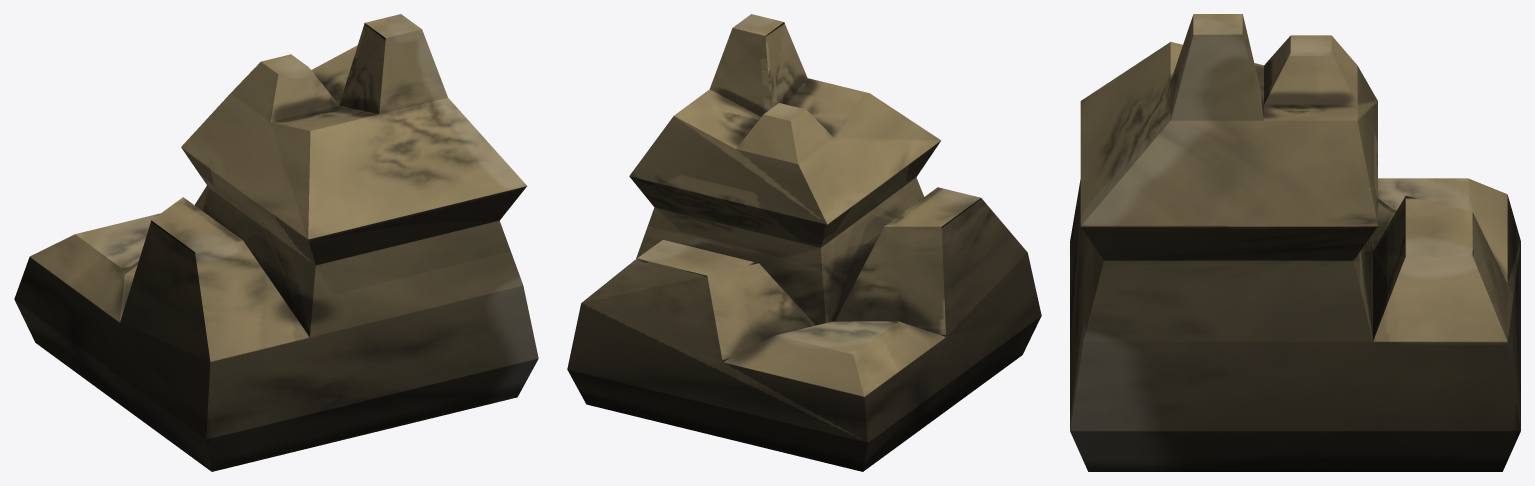
Rendered from Stone.glb.
3 renders of one model, left to right at view 1: azimuth 30°, elevation 25°; view 2: azimuth 150°, elevation 25°; view 3: azimuth 270°, elevation 25°, orthographic. The views are drawn at different scales.
Visible parts, largest first — view 1: Cube; view 2: Cube; view 3: Cube.
Part boxes in pixels (x1=…): Cube: x1=14, y1=14, x2=538, y2=471; Cube: x1=567, y1=14, x2=1041, y2=471; Cube: x1=1070, y1=14, x2=1520, y2=471.
Size of the model in its own units: 1 by 0.9991 by 1.
1 material, 1 textured.
